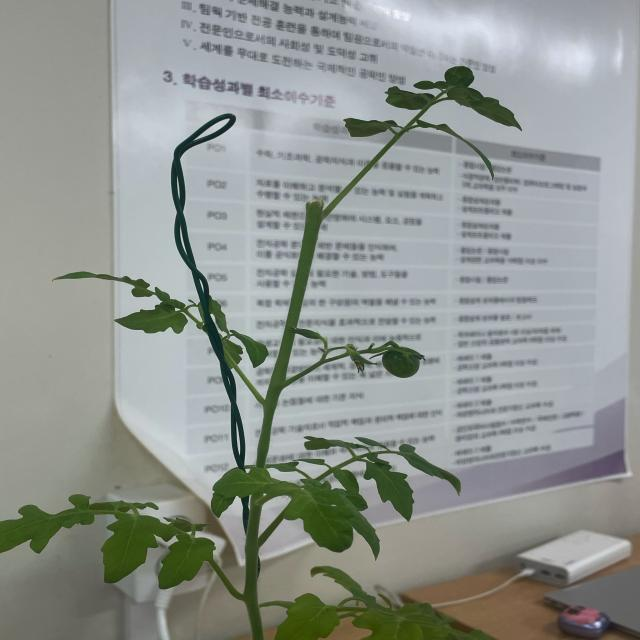level 1: (381, 346, 420, 380)
